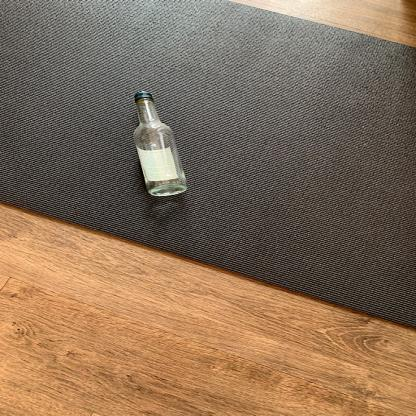trash: (130, 90, 191, 197)
